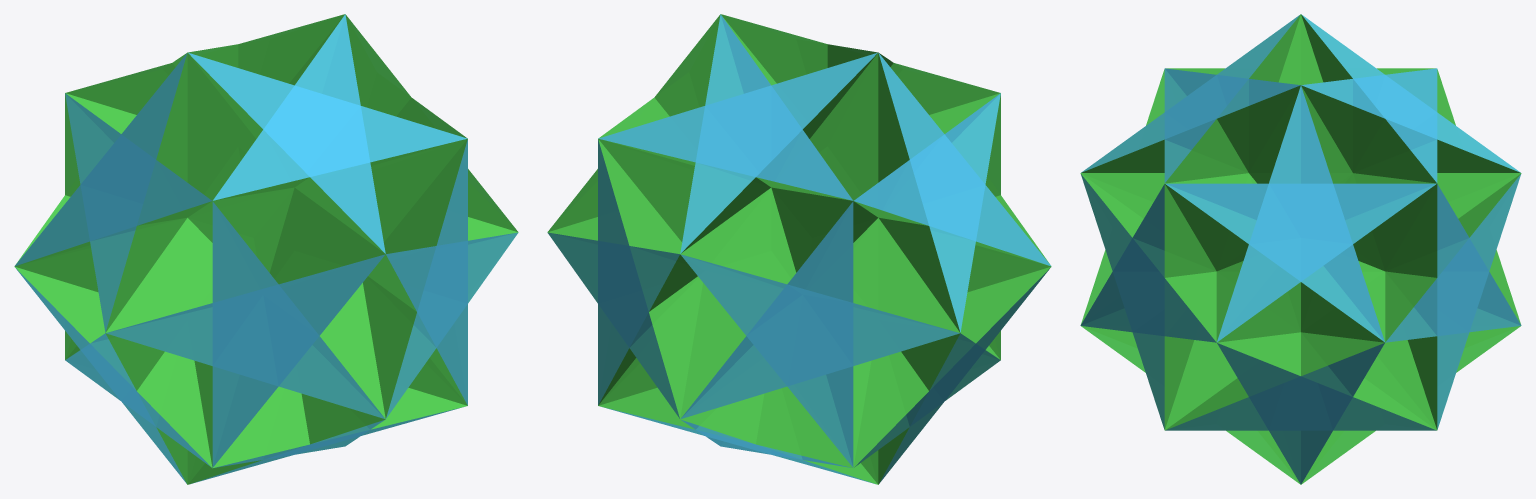
The model's file is DitrigonalDodecadodecahedron.obj.
3 renders of one model, left to right at view 1: azimuth 30°, elevation 25°; view 2: azimuth 150°, elevation 25°; view 3: azimuth 270°, elevation 25°, orthographic. The views are drawn at different scales.
Bounding box in the file's own units: 1.62 × 1.62 × 1.62.
